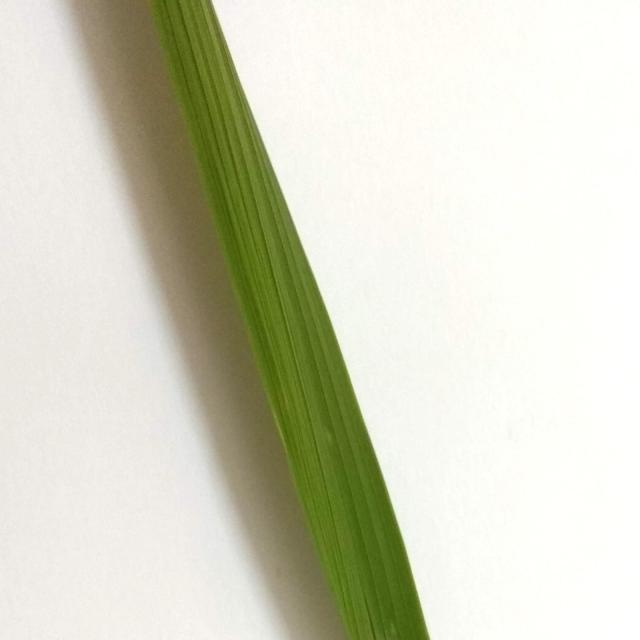healthy: (126, 0, 436, 640)
